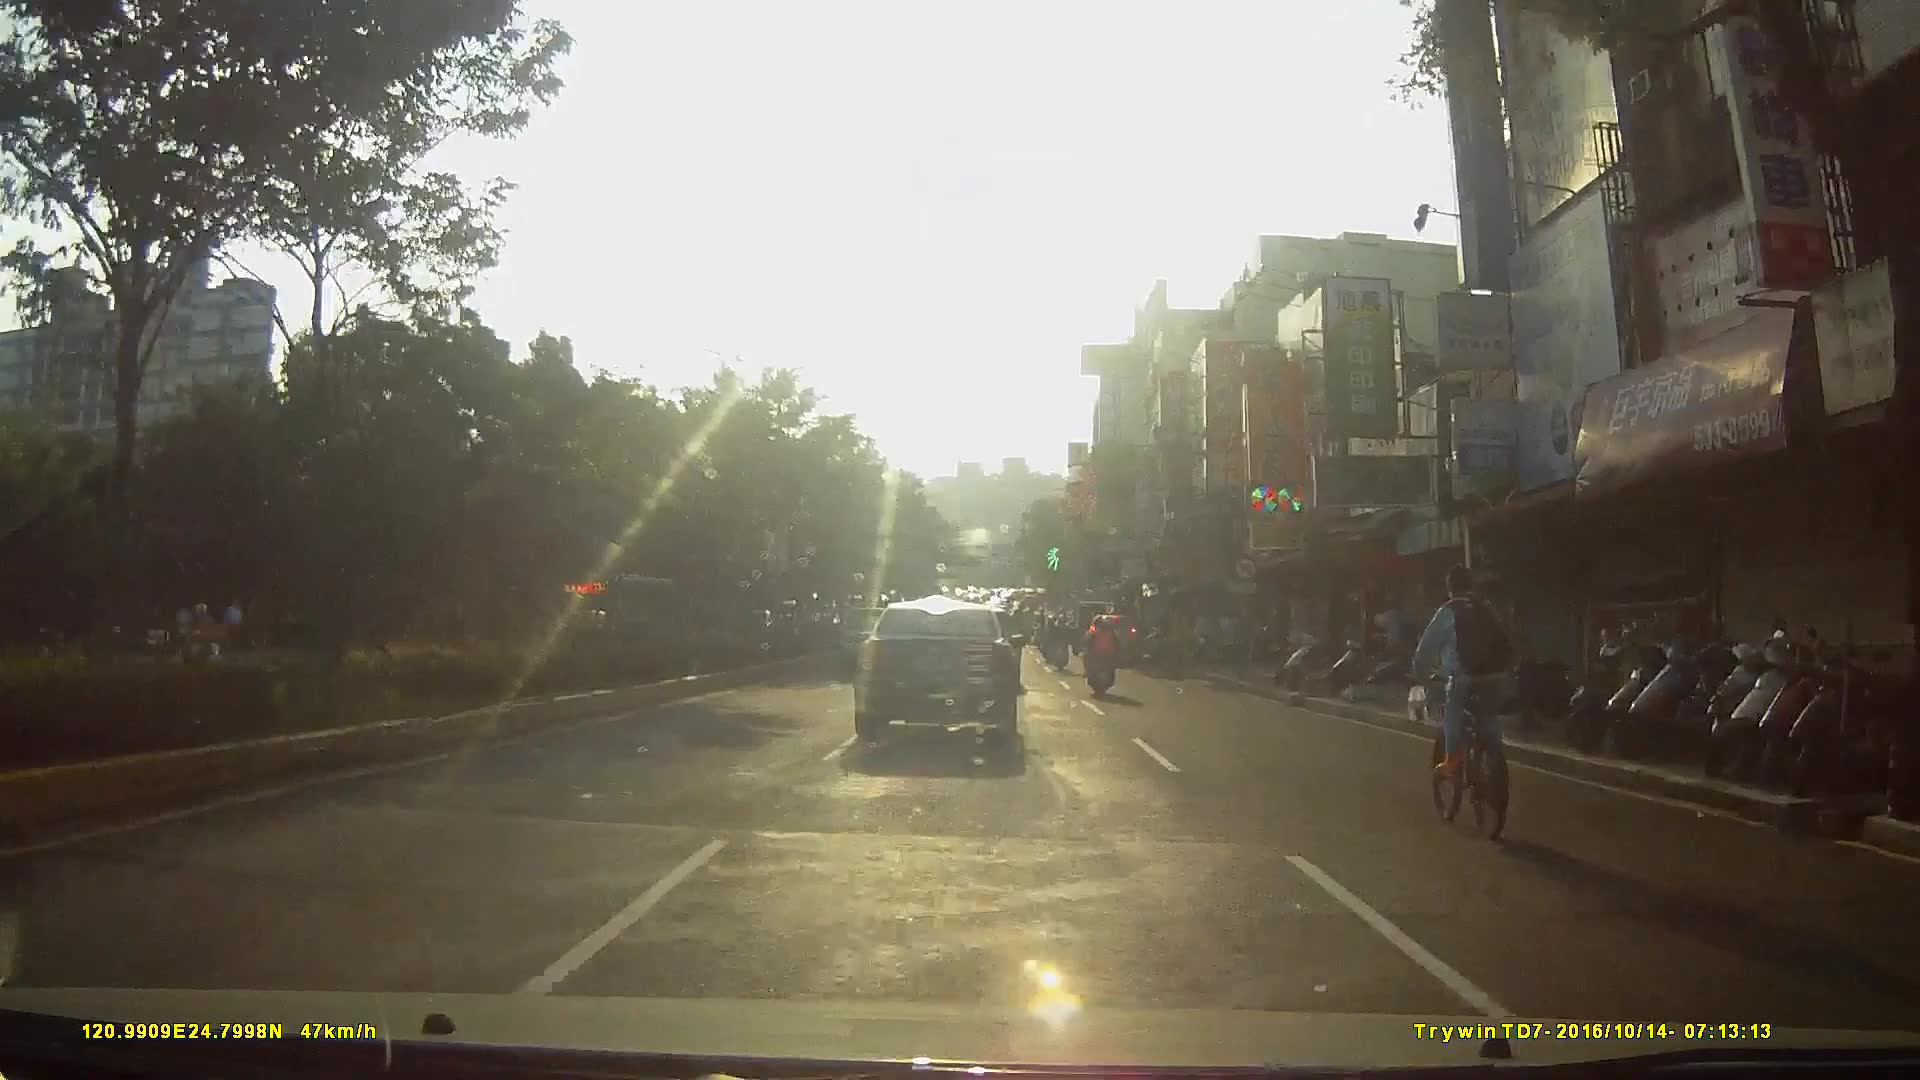rider: (1410, 567, 1515, 840), (171, 600, 225, 690), (1081, 621, 1120, 711), (1046, 617, 1073, 676)
vehicle: (850, 599, 1035, 767), (1081, 608, 1148, 669)
